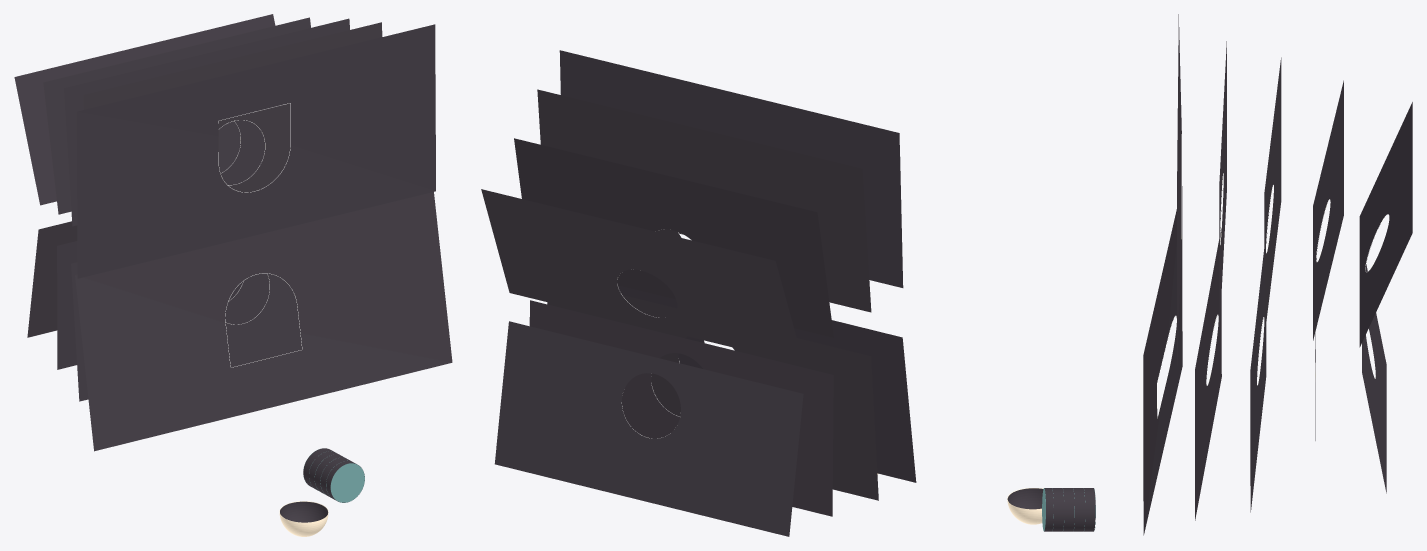
3 renders of one model, left to right at view 1: azimuth 30°, elevation 25°; view 2: azimuth 150°, elevation 25°; view 3: azimuth 270°, elevation 25°, orthographic. The views are drawn at different scales.
Parts seen in each view (by area): view 1: Plane.009, Plane, Plane.003, Plane.002, Plane.001, Plane.004, Plane.005, Plane.008, Plane.006, Plane.007, Cylinder, Cylinder.001 (+2 smaller); view 2: Plane.008, Plane.001, Plane.002, Plane.004, Plane.003, Plane.007, Plane.006, Plane.005; view 3: Plane.001, Plane.009, Plane.004, Plane.005, Plane.002, Plane.008, Plane.006, Cylinder, Plane.003, Plane, Sphere, Sphere.001.
Boxes of the visible parts, x1,y1,x2,y2 form: Plane.009: [75, 192, 452, 451]; Plane: [76, 24, 435, 278]; Plane.003: [83, 22, 382, 192]; Plane.002: [64, 18, 349, 226]; Plane.001: [14, 14, 275, 205]; Plane.004: [43, 17, 310, 214]; Plane.005: [225, 273, 301, 367]; Plane.008: [27, 221, 77, 337]; Plane.006: [71, 262, 269, 401]; Plane.007: [57, 241, 243, 369]; Cylinder: [303, 448, 364, 502]; Cylinder.001: [330, 463, 364, 502]; Plane.008: [494, 321, 803, 536]; Plane.001: [481, 189, 803, 364]; Plane.002: [537, 89, 871, 312]; Plane.004: [514, 138, 833, 337]; Plane.003: [559, 50, 903, 287]; Plane.007: [529, 300, 833, 516]; Plane.006: [547, 295, 878, 500]; Plane.005: [618, 285, 916, 482]; Plane.001: [1359, 102, 1412, 347]; Plane.009: [1143, 186, 1182, 535]; Plane.004: [1313, 80, 1343, 340]; Plane.005: [1195, 229, 1221, 520]; Plane.002: [1264, 57, 1281, 336]; Plane.008: [1362, 265, 1386, 493]; Plane.006: [1250, 249, 1266, 512]; Cylinder: [1044, 488, 1095, 531]; Plane.003: [1219, 41, 1226, 332]; Plane: [1177, 14, 1181, 365]; Sphere: [1007, 488, 1043, 509]; Sphere.001: [1007, 488, 1042, 524].
Size of the model in its own units: 10.01 by 10.94 by 9.38.
